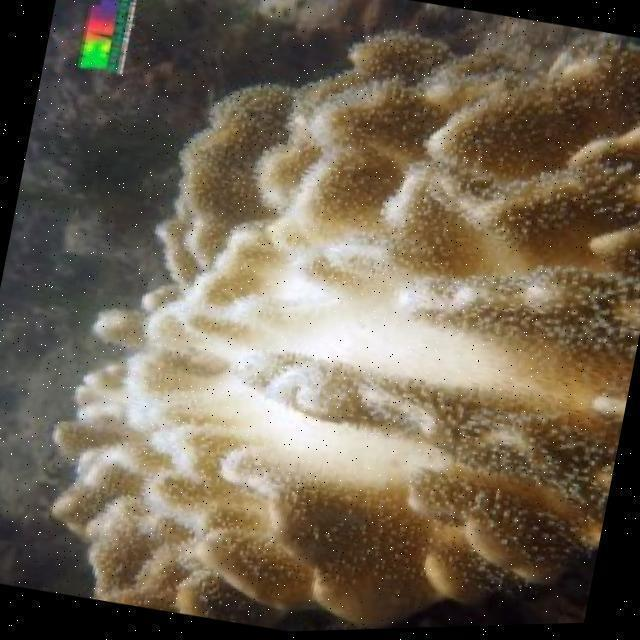Bleached Coral: (49, 195, 640, 603)
